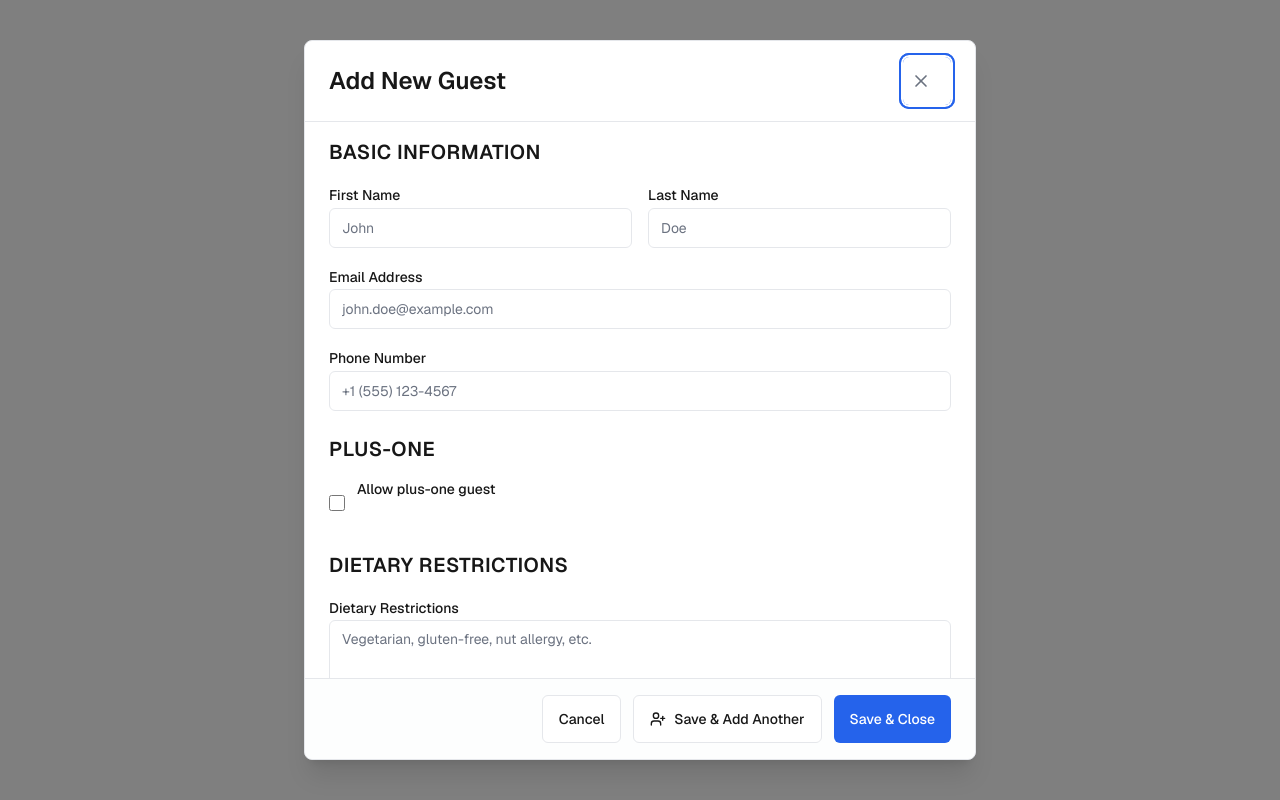
AddGuestModal › shows plus-one name field when plus-one is allowed
The width and height of the screenshot is (1280, 800).
Check: the field labelled "plus-one name" is not shown
Click the checkbox labelled "Allow plus-one guest".
click(337, 503)  # box x1=329 y1=495 x2=345 y2=511
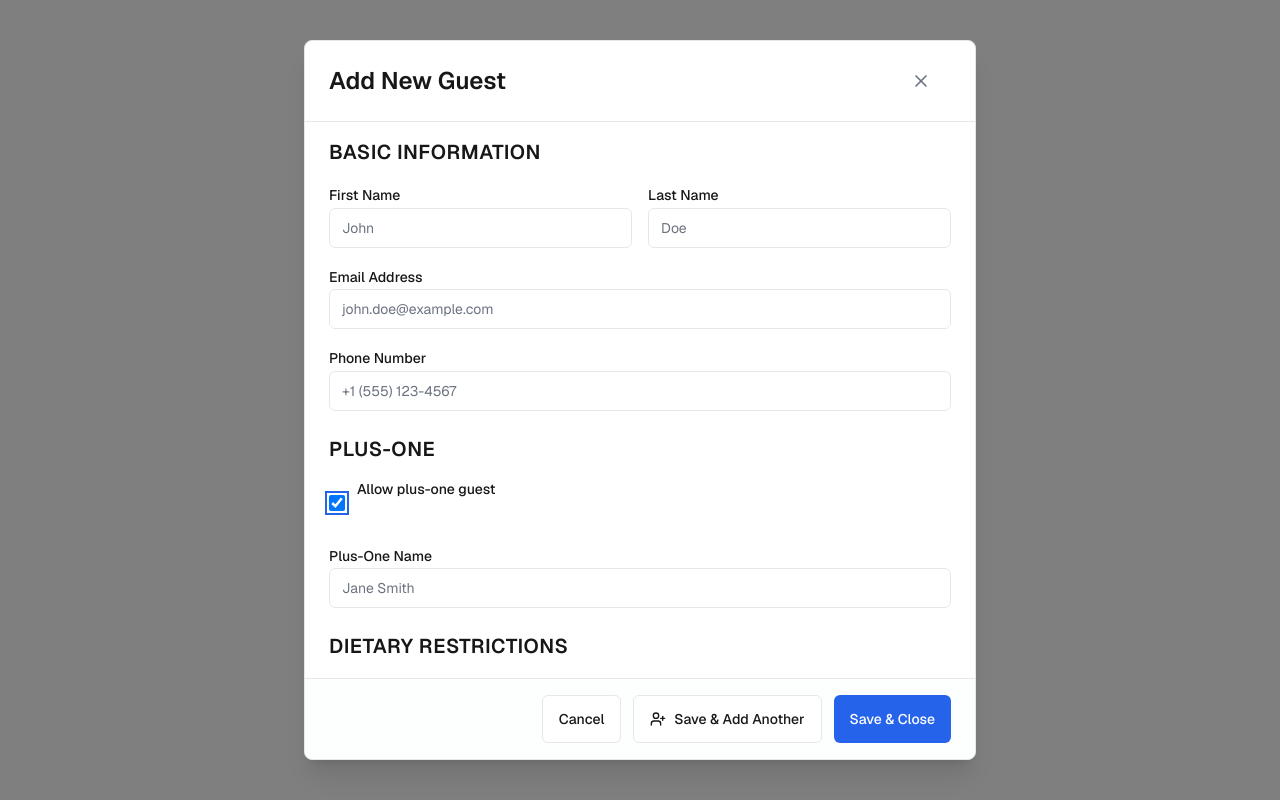
Check: the field labelled "Plus-One Name" is shown, box x1=329 y1=568 x2=951 y2=608
